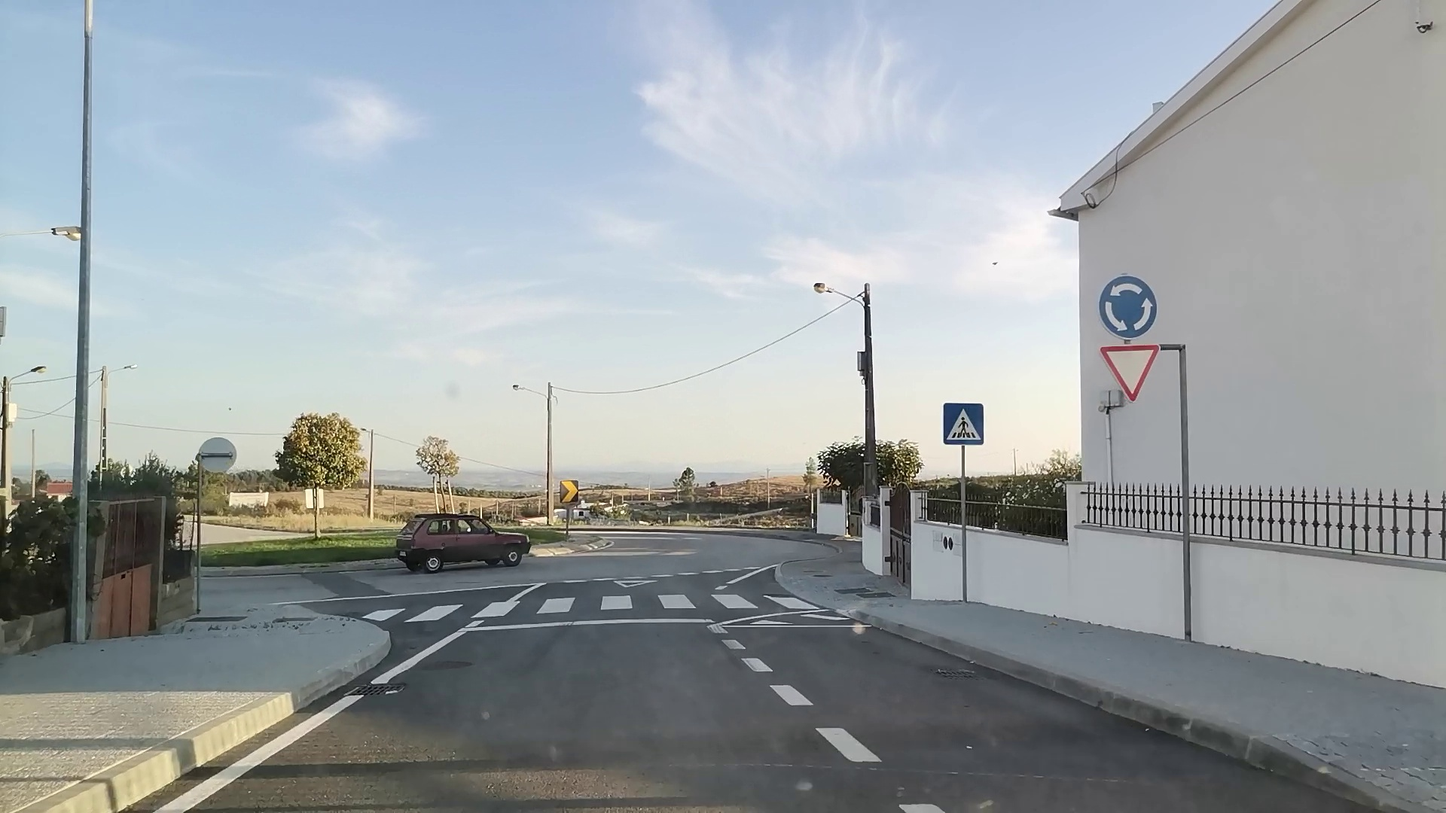Stairs: (344, 589, 835, 627)
